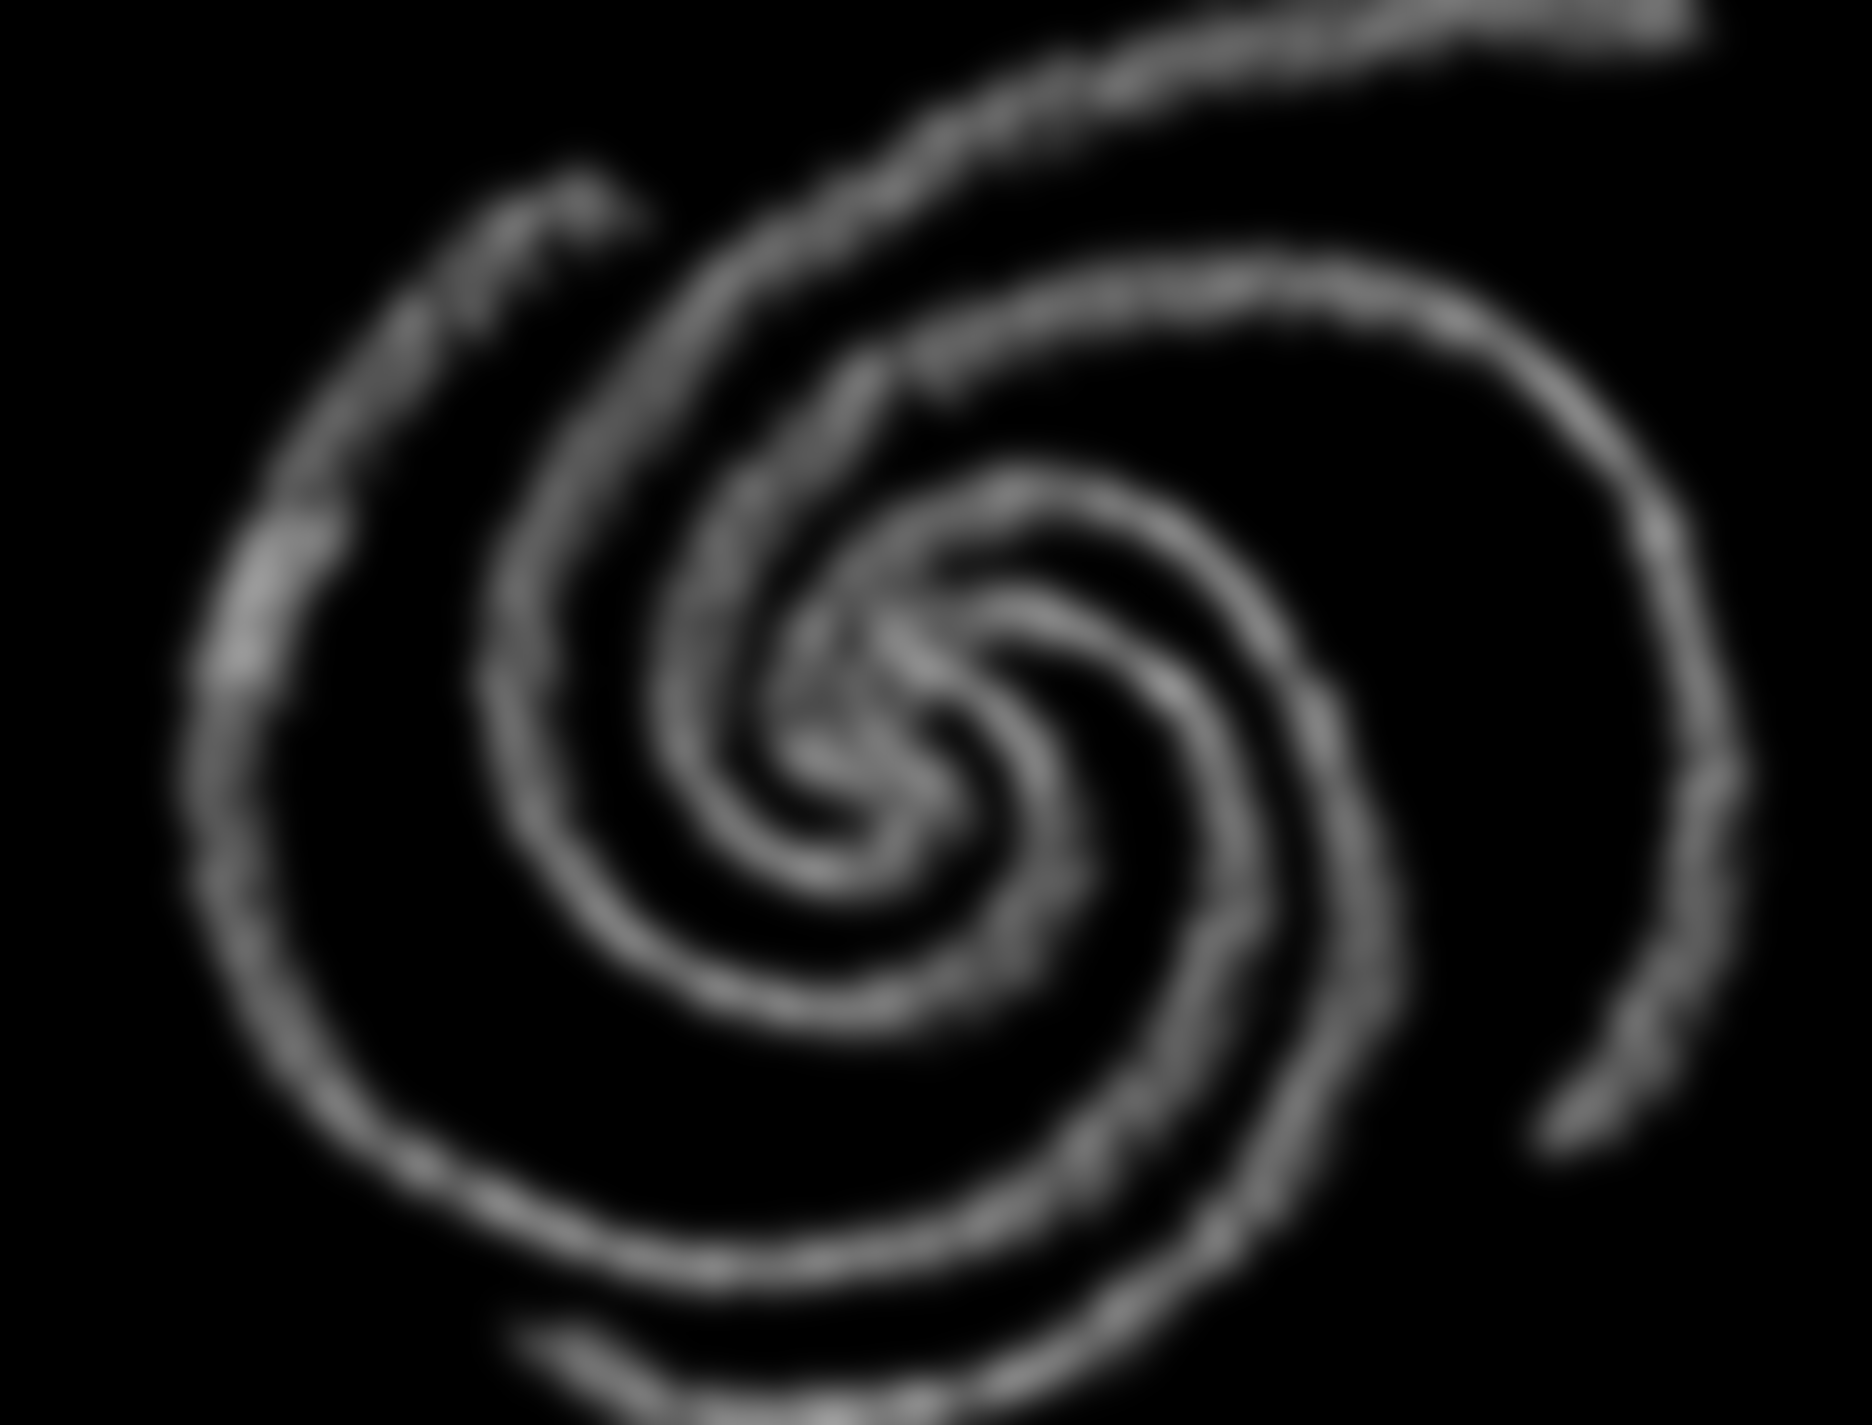vortex: (160, 57, 1751, 1424)
